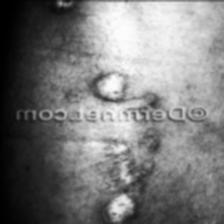Non-Cancerous Skin Condition: (78, 126, 146, 224), (74, 64, 141, 100), (40, 0, 78, 18)
